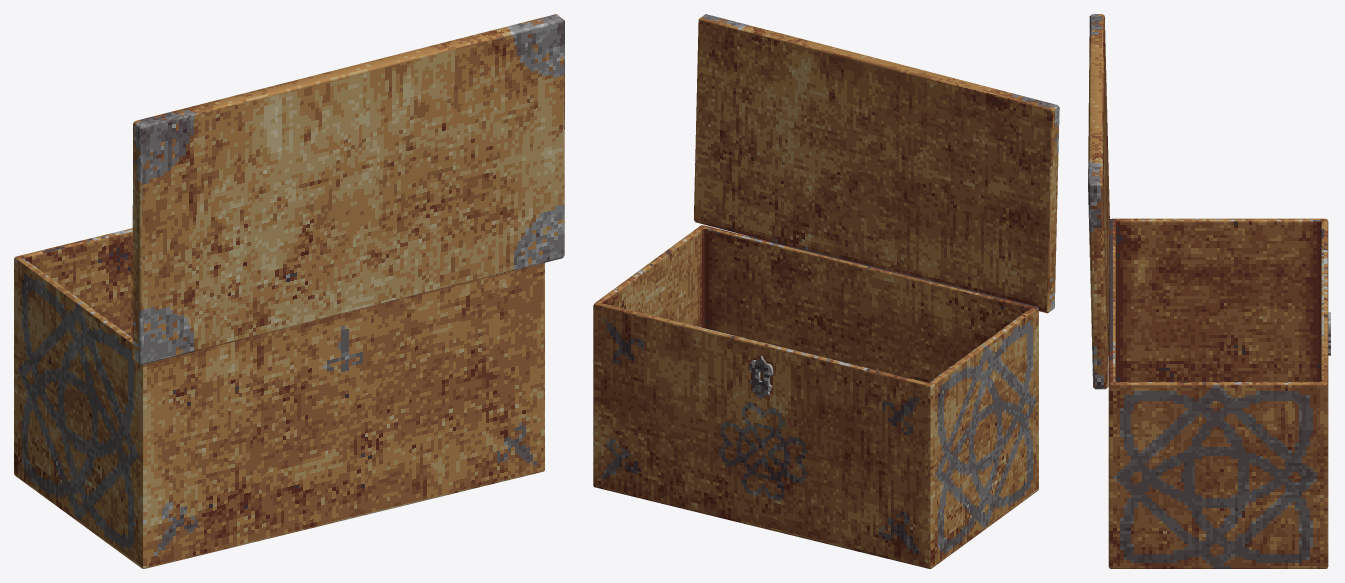
The model's file is toy_box2.glb.
3 views of the same model, side by side, from view 1: azimuth 30°, elevation 25°; view 2: azimuth 150°, elevation 25°; view 3: azimuth 270°, elevation 25° (orthographic). The views are drawn at different scales.
Visible parts, largest first — view 1: mesh; view 2: mesh; view 3: mesh.
Boxes of the visible parts, x1,y1,x2,y2 form: mesh: (14,14,564,568); mesh: (593,14,1059,568); mesh: (1088,14,1330,568).
Bounding box in the file's own units: 0.3889 × 0.4 × 0.2263.
Materials: 1 (1 with a texture image).
